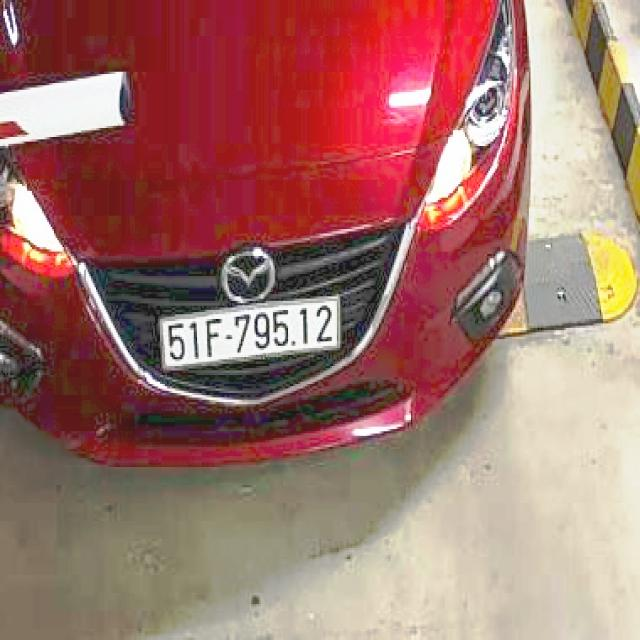license_plate: (158, 297, 342, 372)
